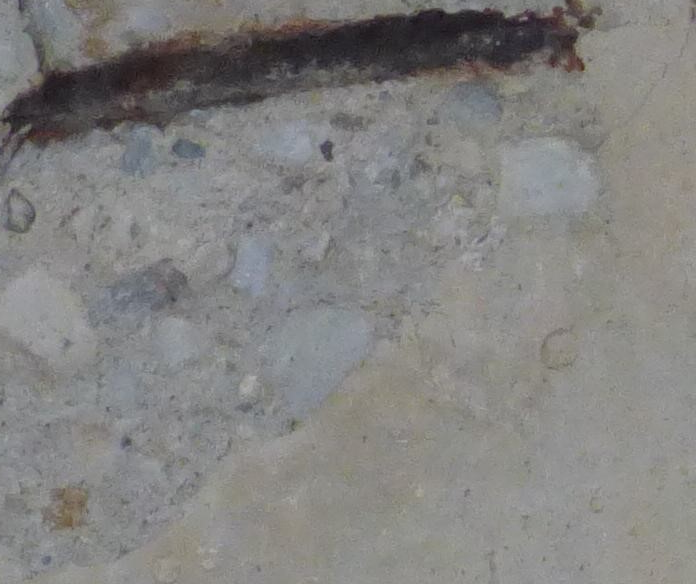Exposed reinforcement: (1, 7, 587, 149)
Spalling: (1, 1, 598, 584)
